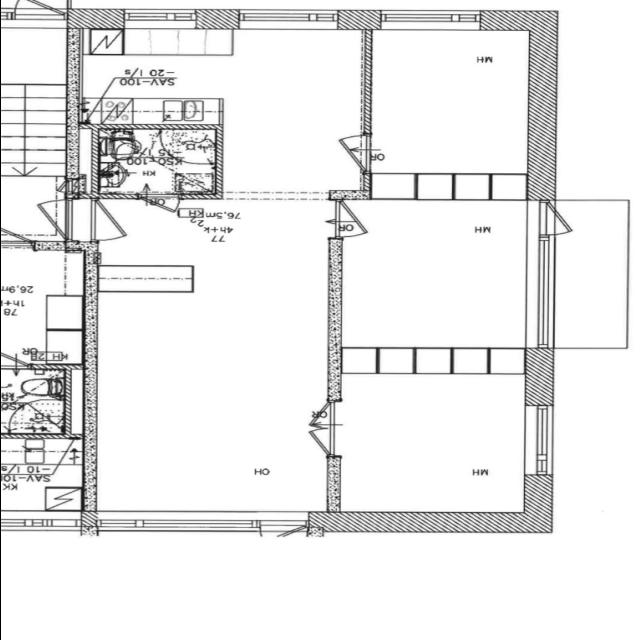door: (32, 196, 80, 242), (334, 127, 378, 177), (85, 200, 131, 246), (530, 200, 575, 241), (329, 203, 365, 243), (308, 421, 345, 457), (299, 399, 345, 427)
window: (95, 506, 316, 542), (527, 234, 565, 351), (368, 6, 486, 36), (231, 4, 341, 34), (526, 395, 561, 479), (117, 7, 199, 32)
